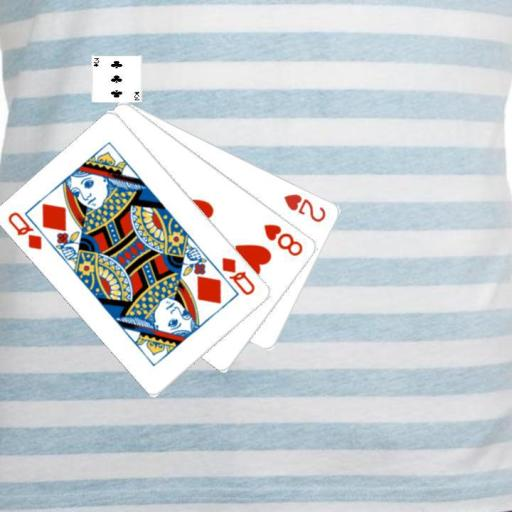2H: (281, 191, 328, 224)
8H: (261, 221, 305, 258)
QD: (5, 208, 44, 252), (219, 254, 257, 297)
